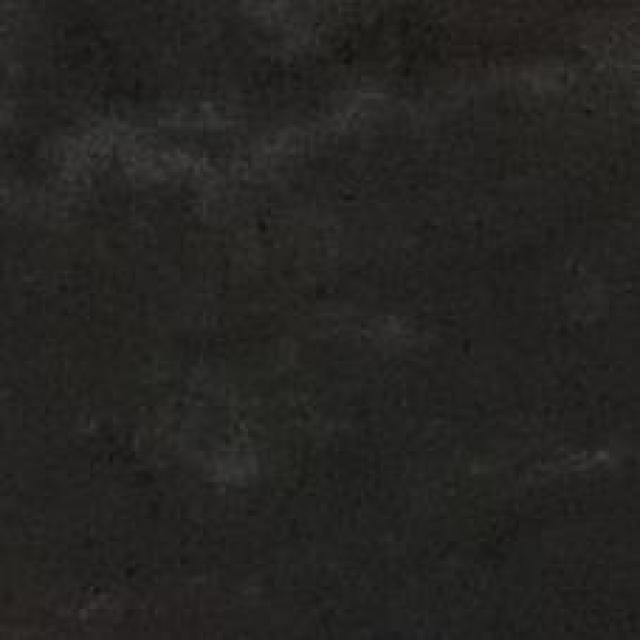Crack: (0, 0, 394, 418)
